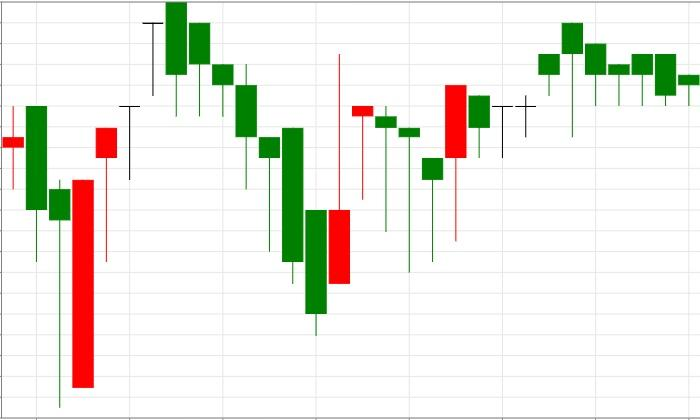hammer_rise: (352, 105, 443, 273)
